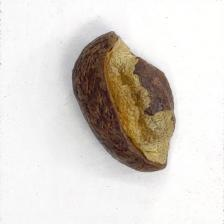NG: (105, 30, 177, 164)
